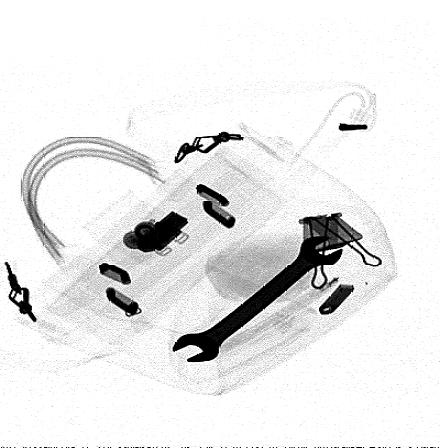Wrench: (171, 234, 346, 364)
